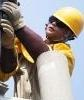gloves: (1, 1, 44, 53), (0, 16, 24, 50)
hard-hat: (0, 0, 16, 13)
